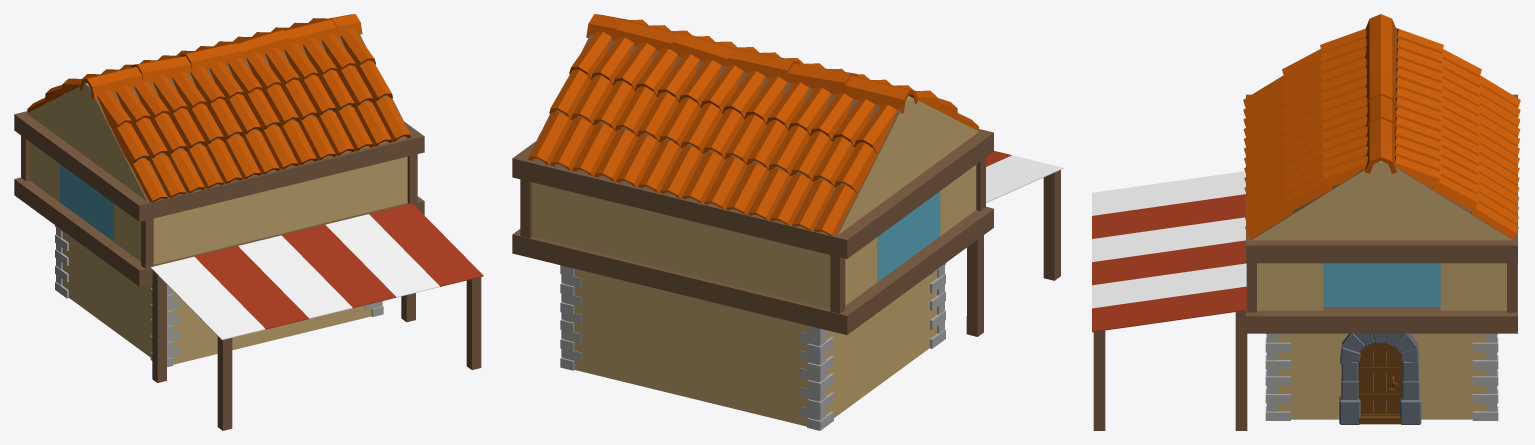
The model's file is scene_Zdj4dwxVSn.glb.
3 renders of one model, left to right at view 1: azimuth 30°, elevation 25°; view 2: azimuth 150°, elevation 25°; view 3: azimuth 270°, elevation 25°, orthographic. The views are drawn at different scales.
Parts seen in each view (by area): view 1: Bakery_Cube.001; view 2: Bakery_Cube.001; view 3: Bakery_Cube.001.
Part boxes in pixels (<box>): Bakery_Cube.001: <box>14,14,483,430</box>; Bakery_Cube.001: <box>512,14,1063,430</box>; Bakery_Cube.001: <box>1092,14,1520,430</box>.
Bounding box in the file's own units: 10.02 × 8.7 × 12.01.
